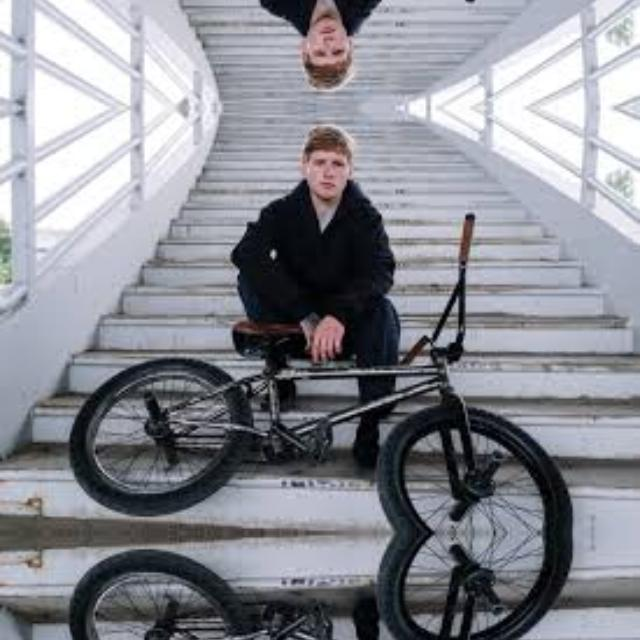obstacle: (71, 280, 569, 532), (71, 533, 569, 640)
person: (257, 118, 393, 324), (257, 0, 393, 96)
